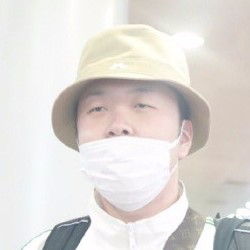mask: (70, 125, 179, 214)
